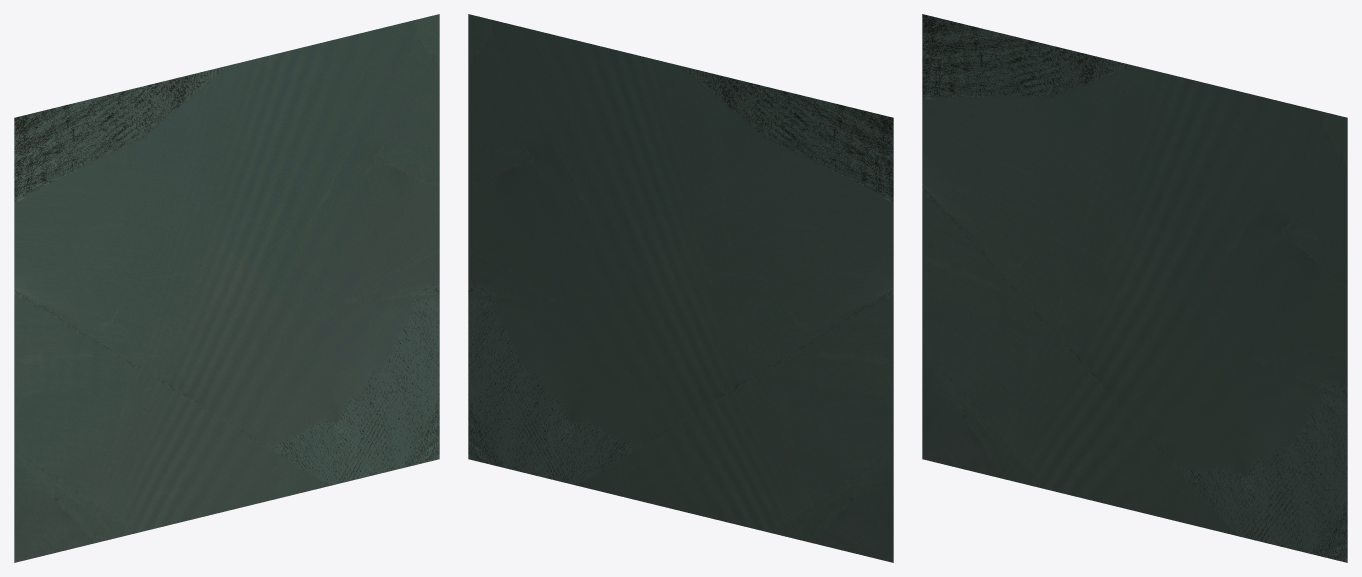
The model's file is Tile_+1999_+2680.obj.
3 views of the same model, side by side, from view 1: azimuth 30°, elevation 25°; view 2: azimuth 150°, elevation 25°; view 3: azimuth 330°, elevation 25° (orthographic).
Bounding box in the file's own units: 252 × 252 × 0.0351.
1 material, 1 textured.
